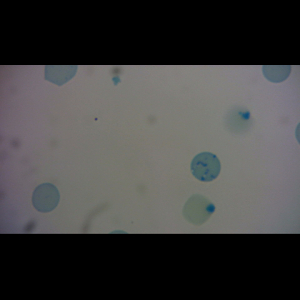aggregate reticulocyte: (189, 151, 222, 183)
erythrocyte: (181, 193, 217, 228), (30, 181, 61, 214)
